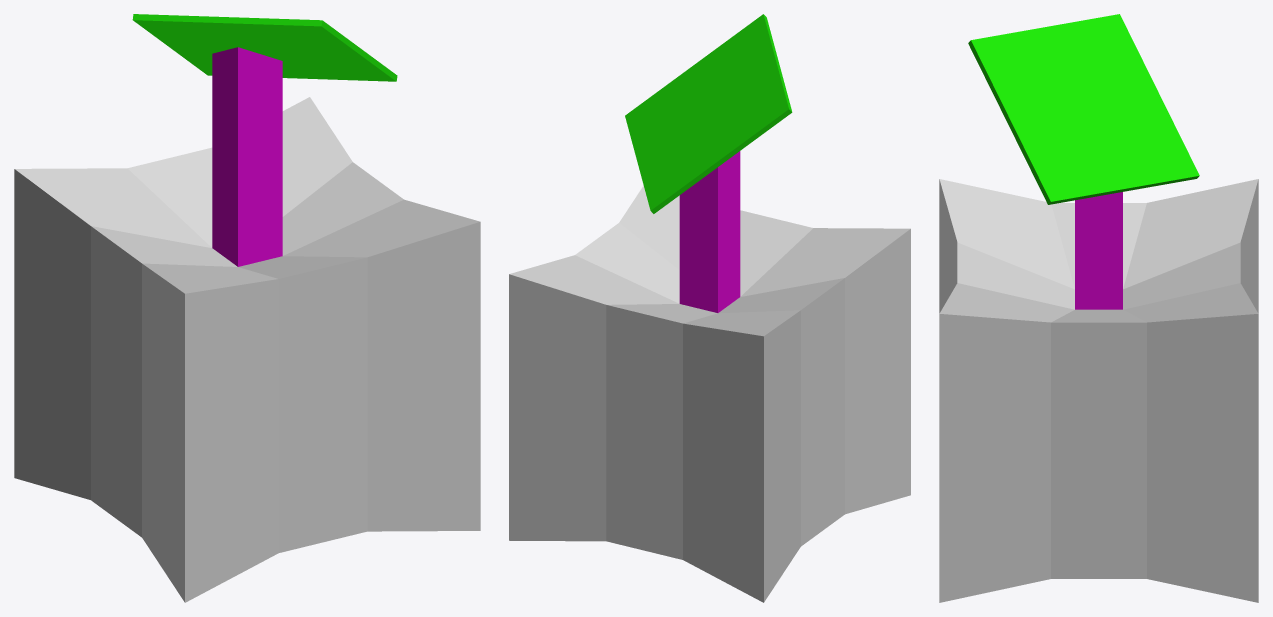
Rendered from froot3d.glb.
The picture shows the model from 3 angles, left to right: view 1: azimuth 30°, elevation 25°; view 2: azimuth 150°, elevation 25°; view 3: azimuth 270°, elevation 25°; orthographic projection. The views are drawn at different scales.
Parts seen in each view (by area): view 1: Cube.003, Cube.002; view 2: Cube.003, Cube.002; view 3: Cube.003, Cube.002.
Boxes of the visible parts, x1,y1,x2,y2 form: Cube.003: [14, 47, 480, 602]; Cube.002: [132, 14, 397, 81]; Cube.003: [509, 151, 910, 602]; Cube.002: [625, 14, 792, 213]; Cube.003: [939, 179, 1258, 602]; Cube.002: [968, 14, 1199, 204].
Size of the model in its own units: 1.33 by 2.29 by 1.33.
